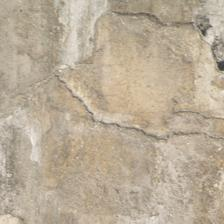Crack: (57, 78, 219, 146), (112, 9, 210, 44)
